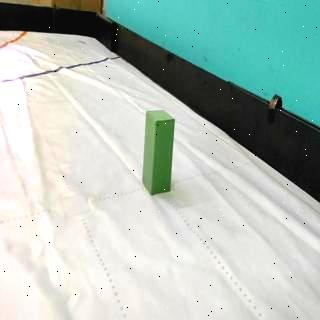greenbox: (142, 108, 177, 195)
